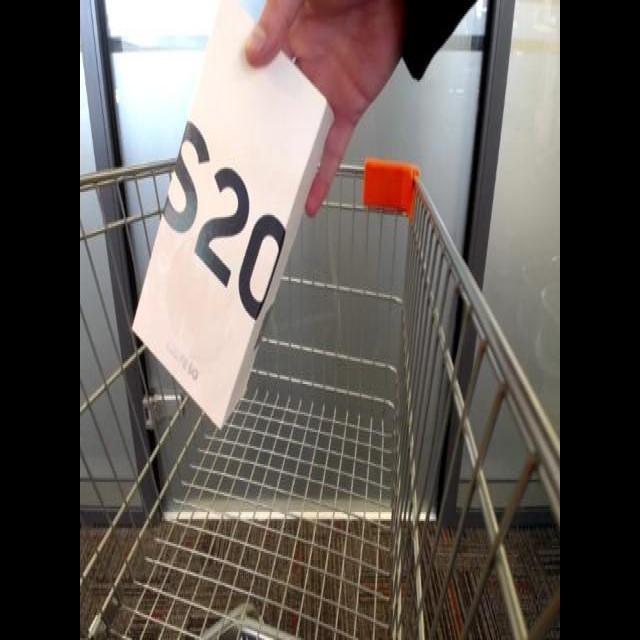Samsung S20: (130, 0, 344, 439)
